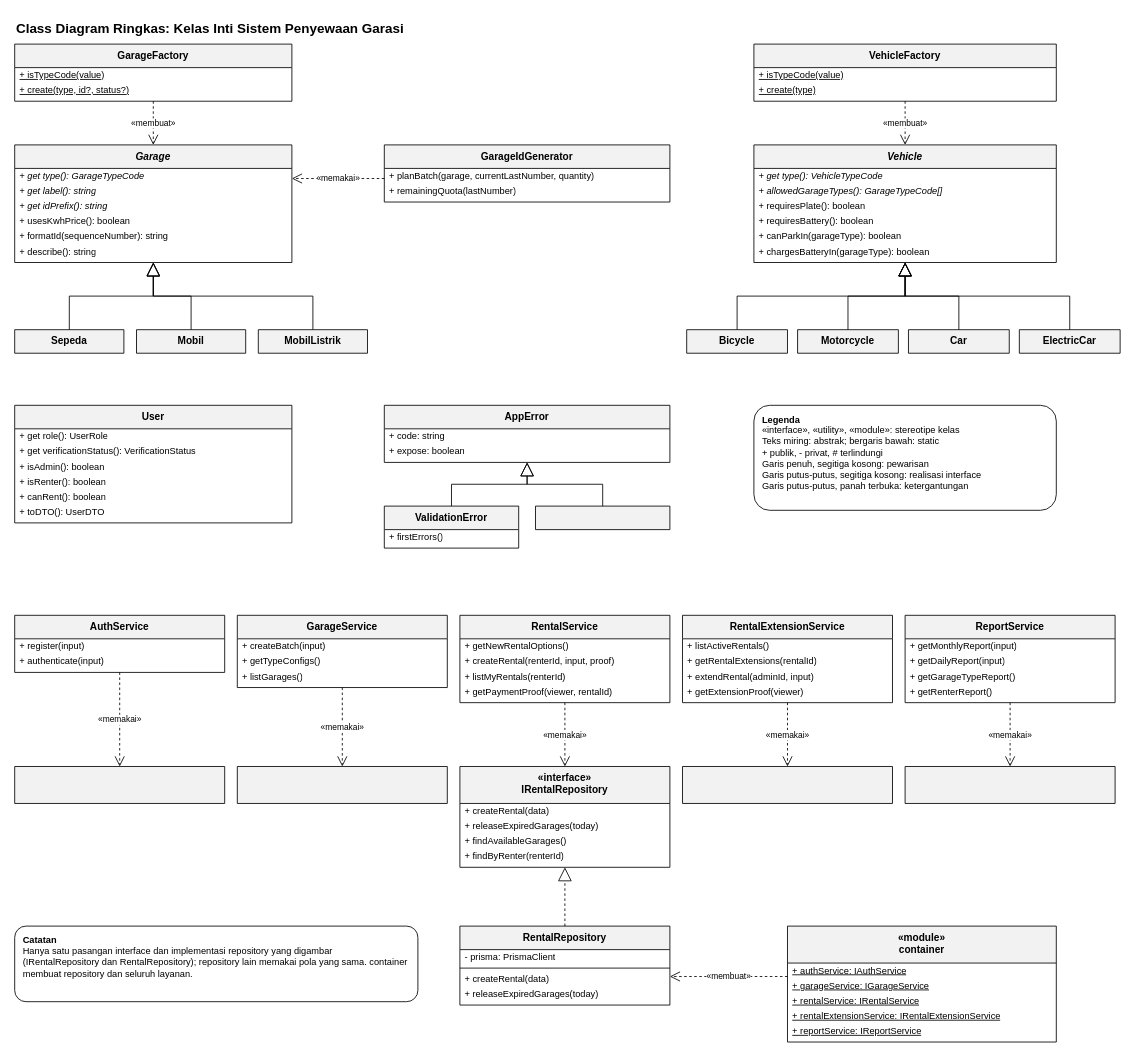
This 1135x1057 diagram has some shape labels left out. Each missing label, with the centre of its shape:
"ConflictError" belongs at pixel 602 517.
"«interface» IGarageRepository" belongs at pixel 341 784.
"«interface» IRentalExtensionRepository" belongs at pixel 787 784.
"«interface» IReportRepository" belongs at pixel 1009 784.
"«interface» IUserRepository" belongs at pixel 119 784.
